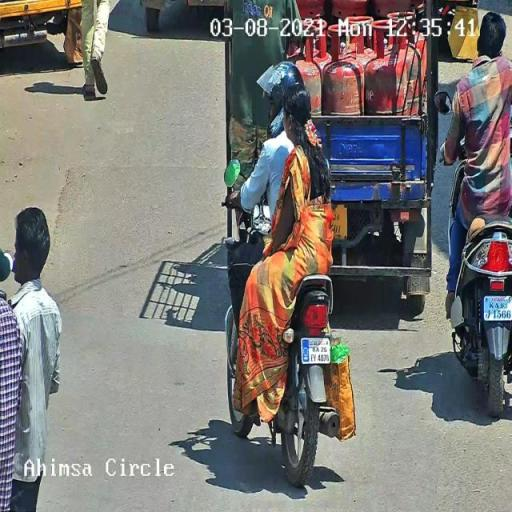numberplate: (484, 294, 512, 320)
using mobile: (497, 49, 507, 62)
